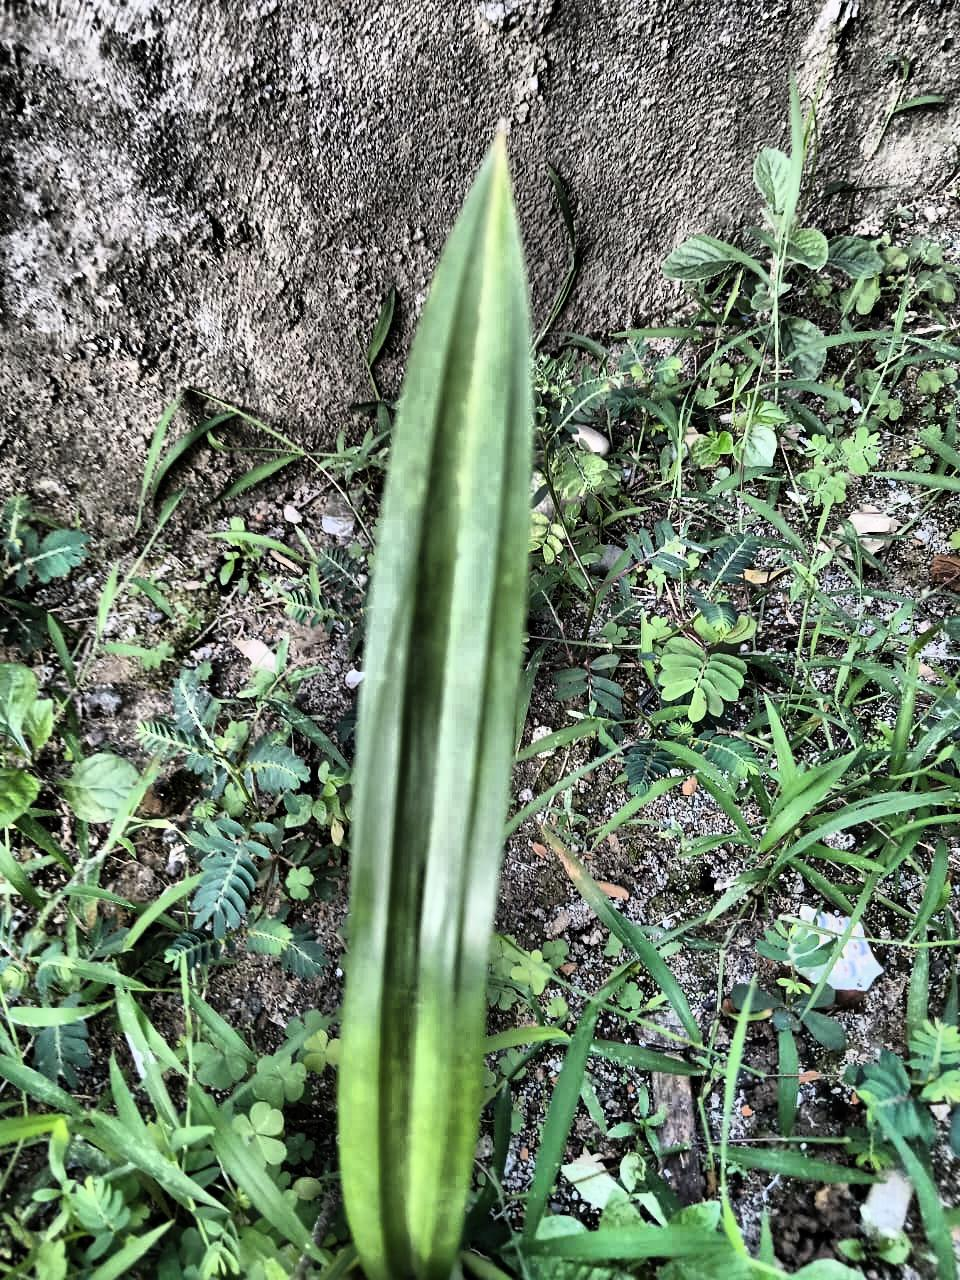daun pandan: (336, 136, 534, 1279)
